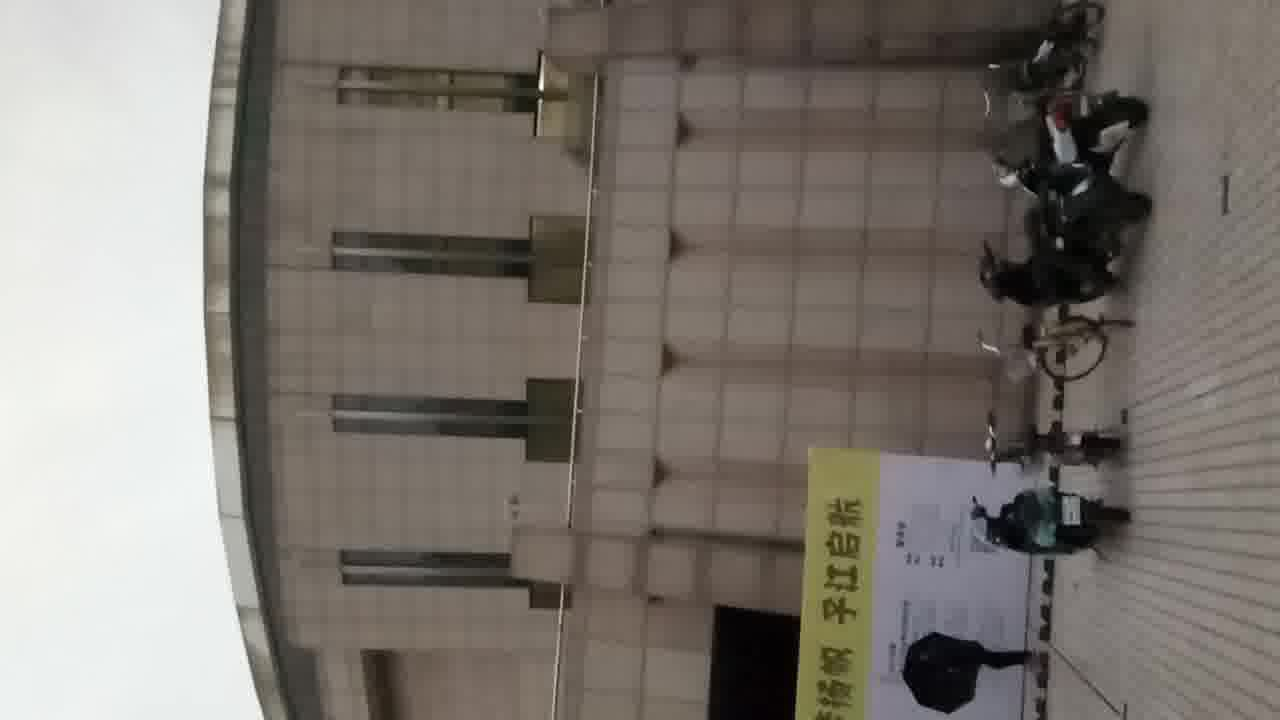zhongtiww: (192, 16, 1052, 720)
